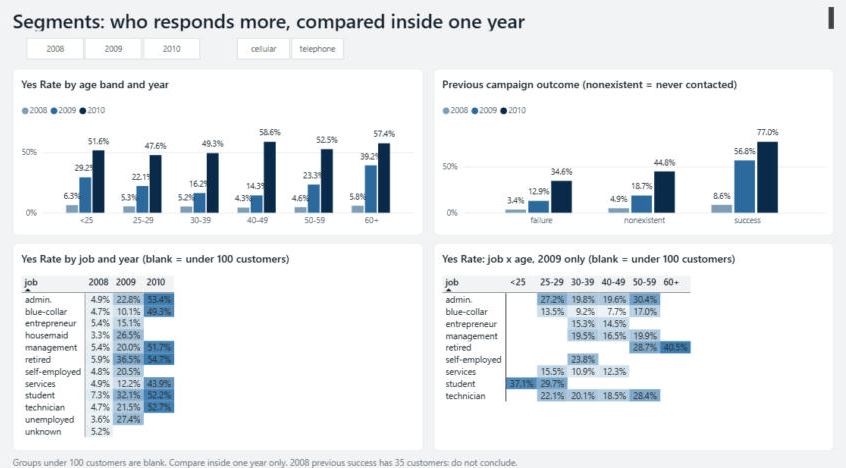

What the dashboard file says about the page in this screenshot:
{"tool":"powerbi","page":{"name":"2 Segments","canvas":[1280,720],"ordinal":1},"visuals":[{"type":"textbox","box":[24,12,1232,36],"z":0},{"type":"slicer","fields":{"Values":["bank_clean.year"]},"box":[24,56,300,36],"z":1000},{"type":"slicer","fields":{"Values":["bank_clean.contact"]},"box":[340,56,200,36],"z":2000},{"type":"clusteredColumnChart","title":"Yes Rate by age band and year","fields":{"Category":["bank_clean.age_band"],"Series":["bank_clean.year"],"Y":["_Measures.Yes Rate"]},"box":[24,104,616,250],"z":3000},{"type":"clusteredColumnChart","title":"Previous campaign outcome (nonexistent = never contacted)","fields":{"Category":["bank_clean.poutcome"],"Series":["bank_clean.year"],"Y":["_Measures.Yes Rate"]},"box":[656,104,600,250],"z":4000},{"type":"pivotTable","title":"Yes Rate by job and year (blank = under 100 customers)","fields":{"Columns":["bank_clean.year"],"Rows":["bank_clean.job"],"Values":["_Measures.Yes Rate (min 100)"]},"box":[24,366,616,312],"z":5000},{"type":"pivotTable","title":"Yes Rate: job x age, 2009 only (blank = under 100 customers)","fields":{"Columns":["bank_clean.age_band"],"Rows":["bank_clean.job"],"Values":["_Measures.Yes Rate 2009 (min 100)"]},"box":[656,366,600,312],"z":6000},{"type":"textbox","box":[24,684,1232,28],"z":7000}]}

Visuals, with their boxes in screenshot pixels (x1, y1, x2, y2), scaled from the page's 1280x720 canvas onto the 846x468 screenshot:
textbox: (left=16, top=8, right=830, bottom=31)
slicer - bank_clean.year: (left=16, top=36, right=214, bottom=60)
slicer - bank_clean.contact: (left=225, top=36, right=357, bottom=60)
"Yes Rate by age band and year" clusteredColumnChart: (left=16, top=68, right=423, bottom=230)
"Previous campaign outcome (nonexistent = never contacted)" clusteredColumnChart: (left=434, top=68, right=830, bottom=230)
"Yes Rate by job and year (blank = under 100 customers)" pivotTable: (left=16, top=238, right=423, bottom=441)
"Yes Rate: job x age, 2009 only (blank = under 100 customers)" pivotTable: (left=434, top=238, right=830, bottom=441)
textbox: (left=16, top=445, right=830, bottom=463)
